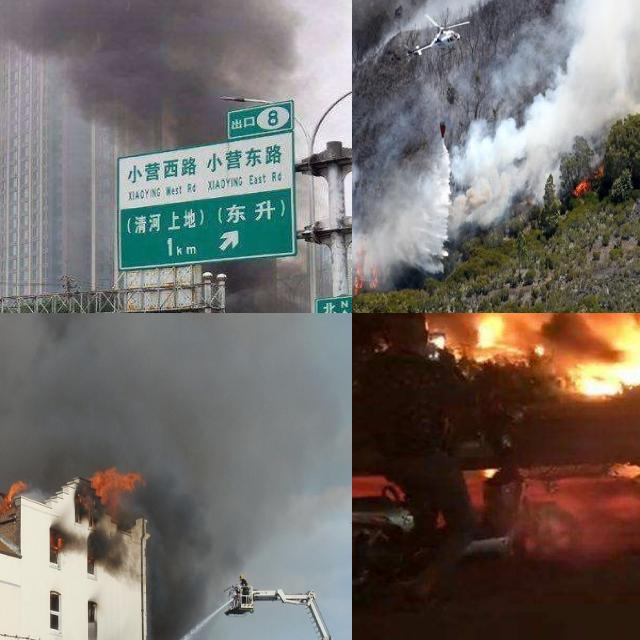fire: (471, 313, 640, 397), (85, 465, 141, 519), (352, 240, 386, 299), (573, 156, 607, 196), (0, 475, 24, 509), (50, 525, 64, 552)
smoke: (352, 0, 640, 313), (0, 313, 314, 531), (0, 0, 351, 147), (147, 489, 204, 640), (225, 262, 311, 313), (85, 526, 126, 572)
